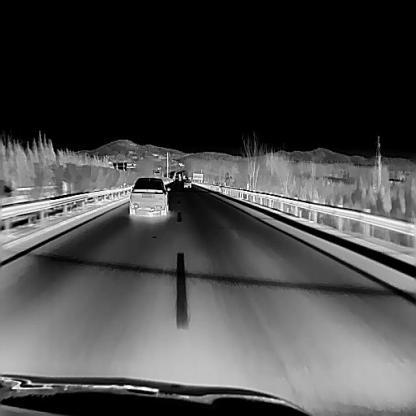car: (129, 176, 170, 216), (183, 176, 191, 187)
